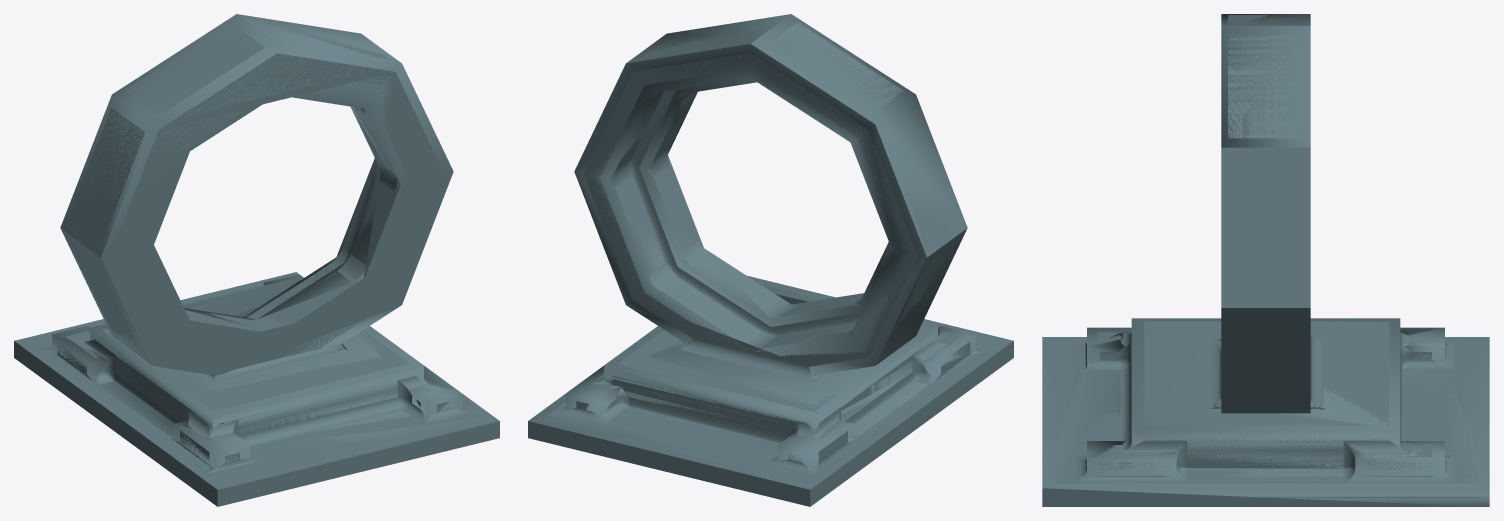
Rendered from space-kit__gate_simple.glb.
3 renders of one model, left to right at view 1: azimuth 30°, elevation 25°; view 2: azimuth 150°, elevation 25°; view 3: azimuth 270°, elevation 25°, orthographic. The views are drawn at different scales.
Parts seen in each view (by area): view 1: L1_dark, L0_dark; view 2: L1_dark, L0_dark; view 3: L1_dark, L0_dark.
Part boxes in pixels (box(x1,y1,x2,y2)): L1_dark: box(14, 14, 499, 506); L0_dark: box(19, 18, 491, 496); L1_dark: box(528, 14, 1013, 506); L0_dark: box(537, 22, 1008, 496); L1_dark: box(1042, 14, 1489, 506); L0_dark: box(1053, 15, 1478, 497).
Size of the model in its own units: 1 by 1 by 1.
